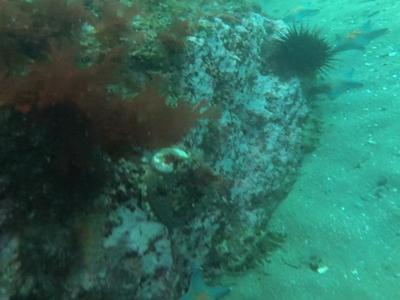holothurian: (225, 230, 289, 272)
urchin: (265, 21, 329, 76)
